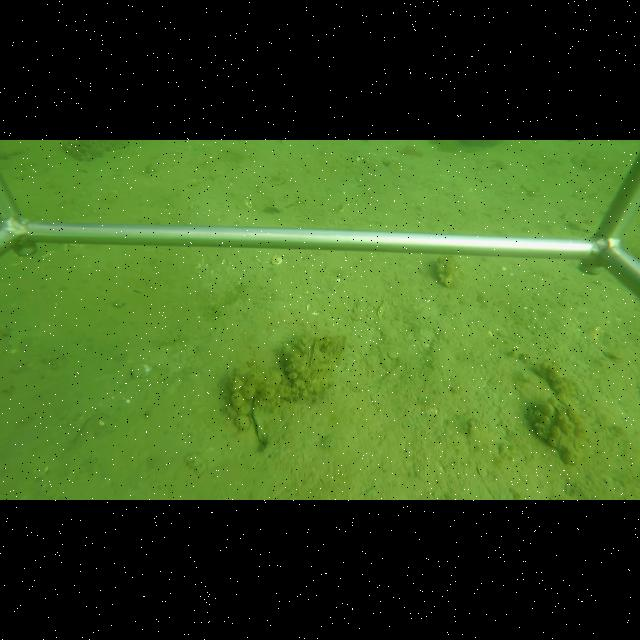Oyster-Closed: (435, 256, 459, 289)
Oyster-Open: (244, 393, 286, 450)
